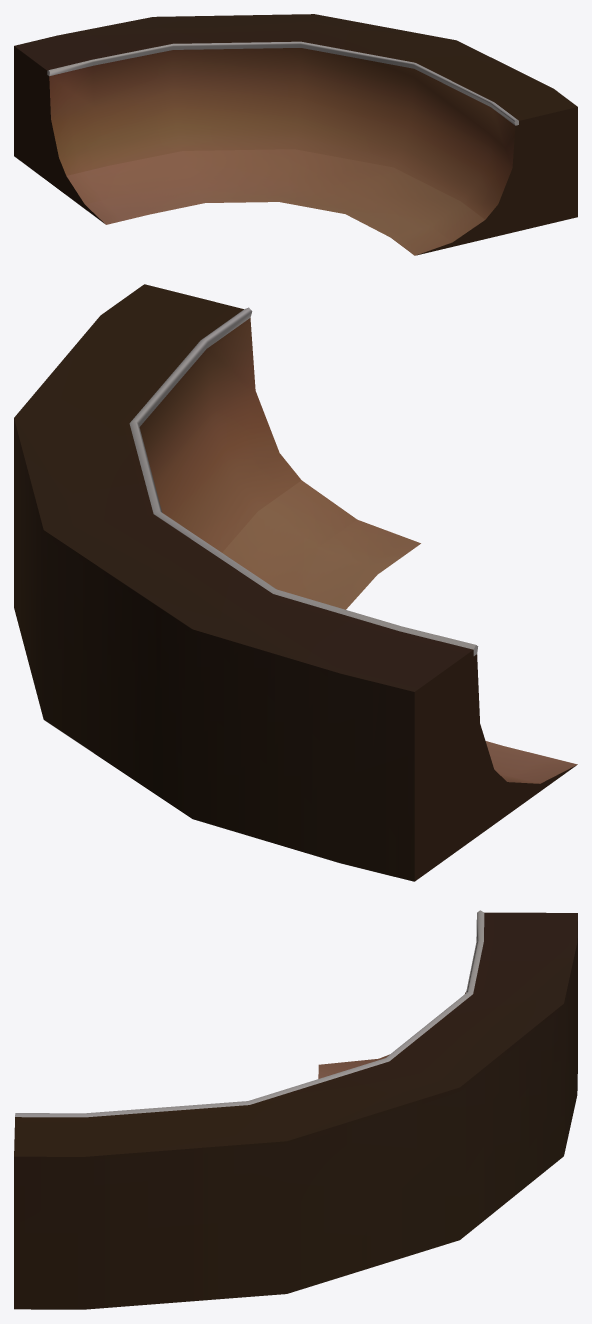
Rendered from SkateboardVertWallCurved.glb.
3 renders of one model, top to bottom at view 1: azimuth 30°, elevation 25°; view 2: azimuth 150°, elevation 25°; view 3: azimuth 270°, elevation 25°, orthographic. The views are drawn at different scales.
Visible parts, largest first — view 1: SkateboardVertWallCurved; view 2: SkateboardVertWallCurved; view 3: SkateboardVertWallCurved.
Part boxes in pixels (x1,y1,x2,y2): SkateboardVertWallCurved: (14,14,577,255); SkateboardVertWallCurved: (14,284,577,881); SkateboardVertWallCurved: (14,910,577,1309).
Bounding box in the file's own units: 11.18 × 3.3 × 10.87.
Materials: 1 (1 with a texture image).
